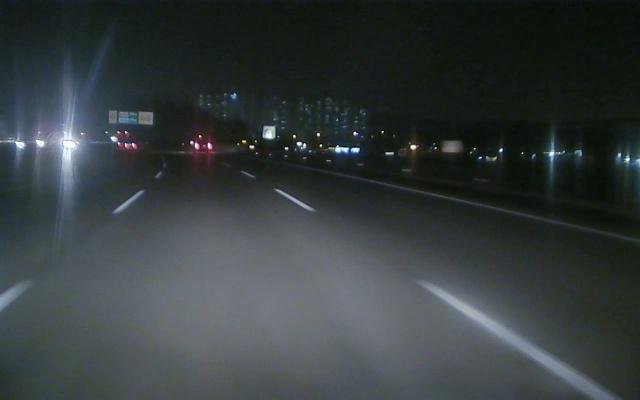lane: (243, 171, 627, 400), (363, 178, 640, 243), (2, 191, 143, 309)
